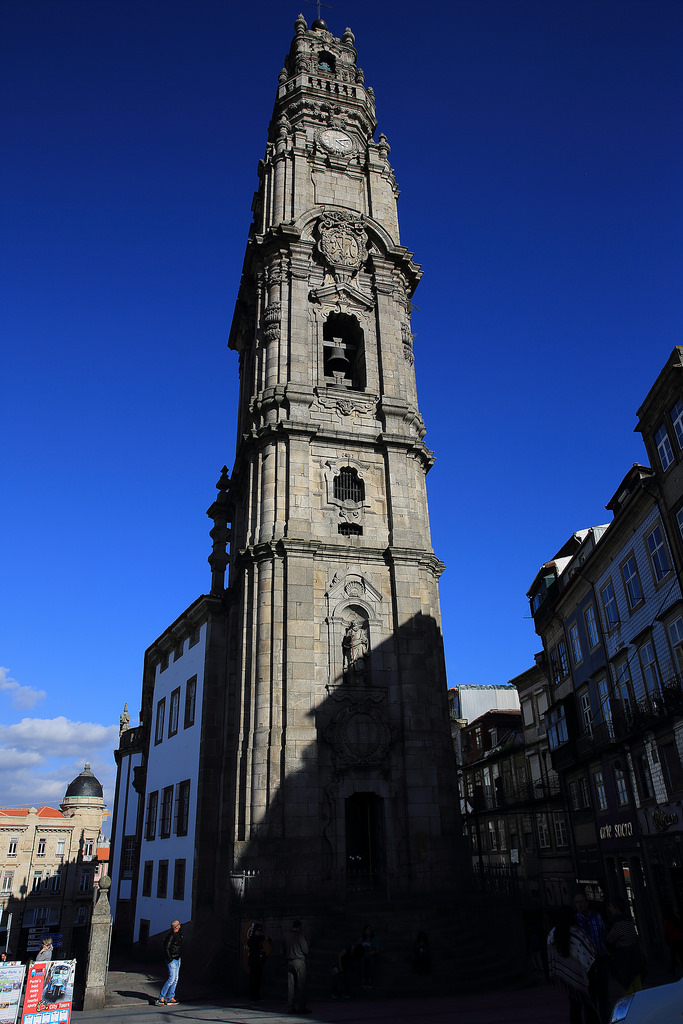clerigos: (202, 0, 466, 915)
